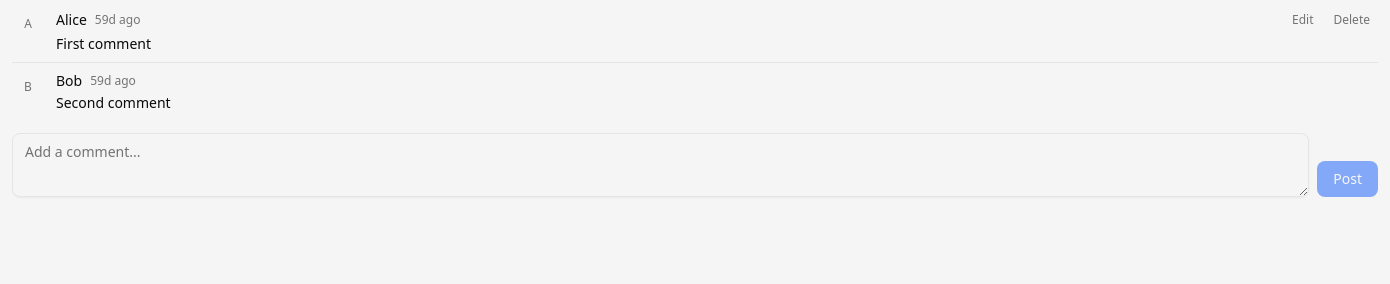
Scenario: CommentSection › enters edit mode on edit button click
Click the button with aria-label "Edit" at (1303, 20), box [1284,8,1322,32]
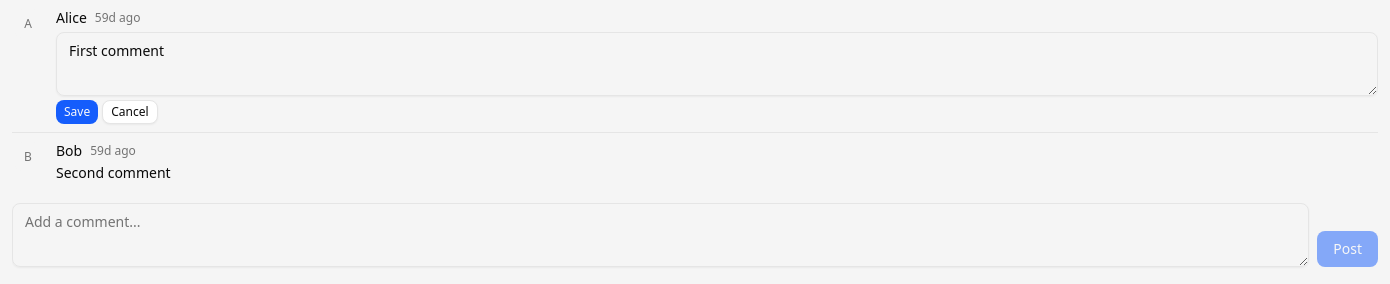
expect the text box showing "First comment" is shown: met, box [56,32,1378,96]
